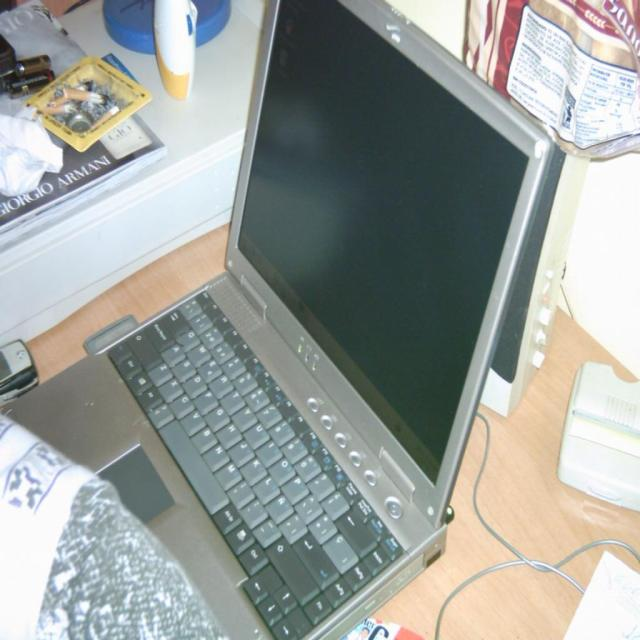laptop: (36, 0, 540, 628)
